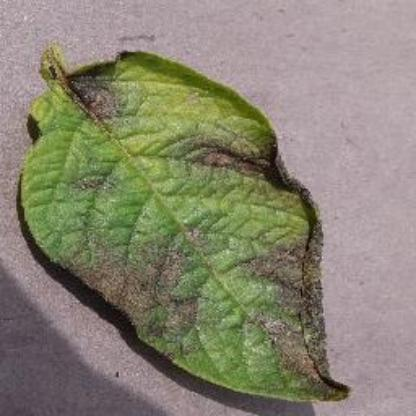Late-Blight: (14, 38, 364, 406)
